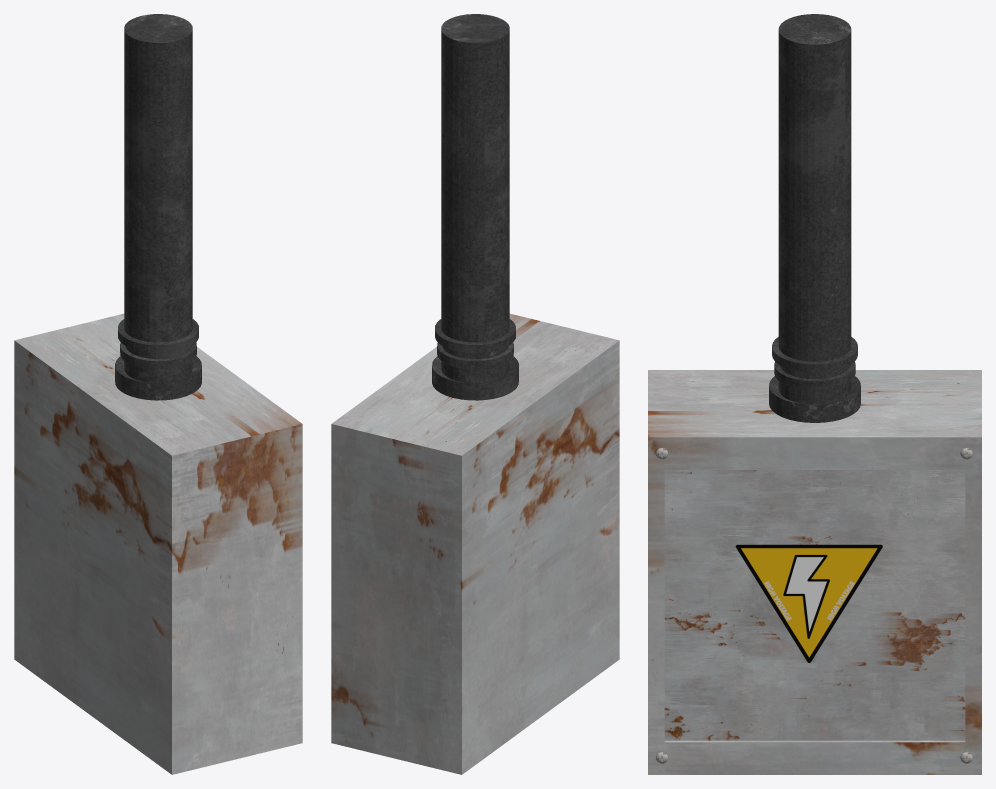
Rendered from fuse.glb.
3 views of the same model, side by side, from view 1: azimuth 30°, elevation 25°; view 2: azimuth 150°, elevation 25°; view 3: azimuth 270°, elevation 25° (orthographic). The views are drawn at different scales.
Parts seen in each view (by area): view 1: BoxBase, FatPipe; view 2: BoxBase, FatPipe; view 3: BoxDoor, BoxBase, FatPipe.
Boxes of the visible parts, bbox=[...] form: BoxBase: bbox=[14, 313, 302, 774]; FatPipe: bbox=[115, 14, 201, 400]; BoxBase: bbox=[331, 313, 619, 774]; FatPipe: bbox=[432, 14, 518, 400]; BoxDoor: bbox=[664, 470, 965, 740]; BoxBase: bbox=[648, 370, 981, 774]; FatPipe: bbox=[769, 14, 860, 422].
Bounding box in the file's own units: 1.05 × 5.09 × 2.16.
8 materials, 8 textured.
